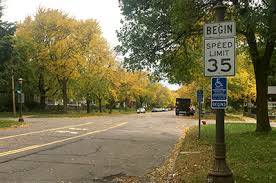speedLimit35: (203, 37, 236, 78)
